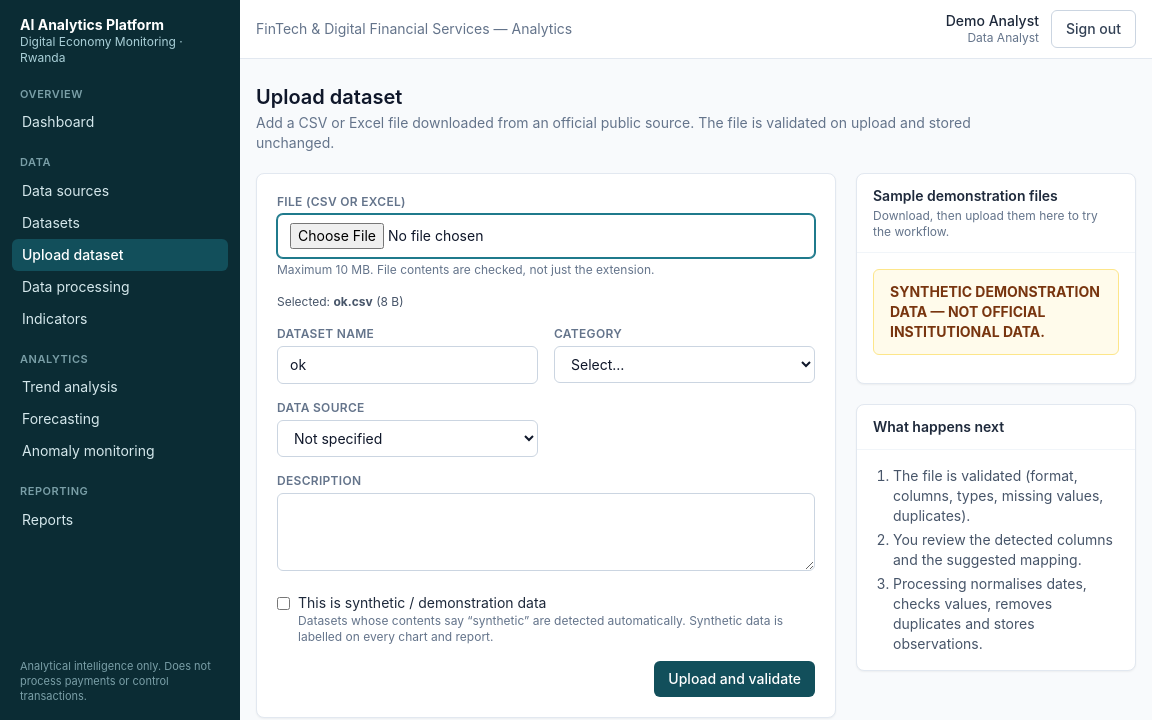
Test: dataset upload form › requires a category before submitting a valid CSV
Earlier steps of the test are not shown.
Step 1. Click the button "Upload and validate" → (735, 679), box [654,661,815,697]
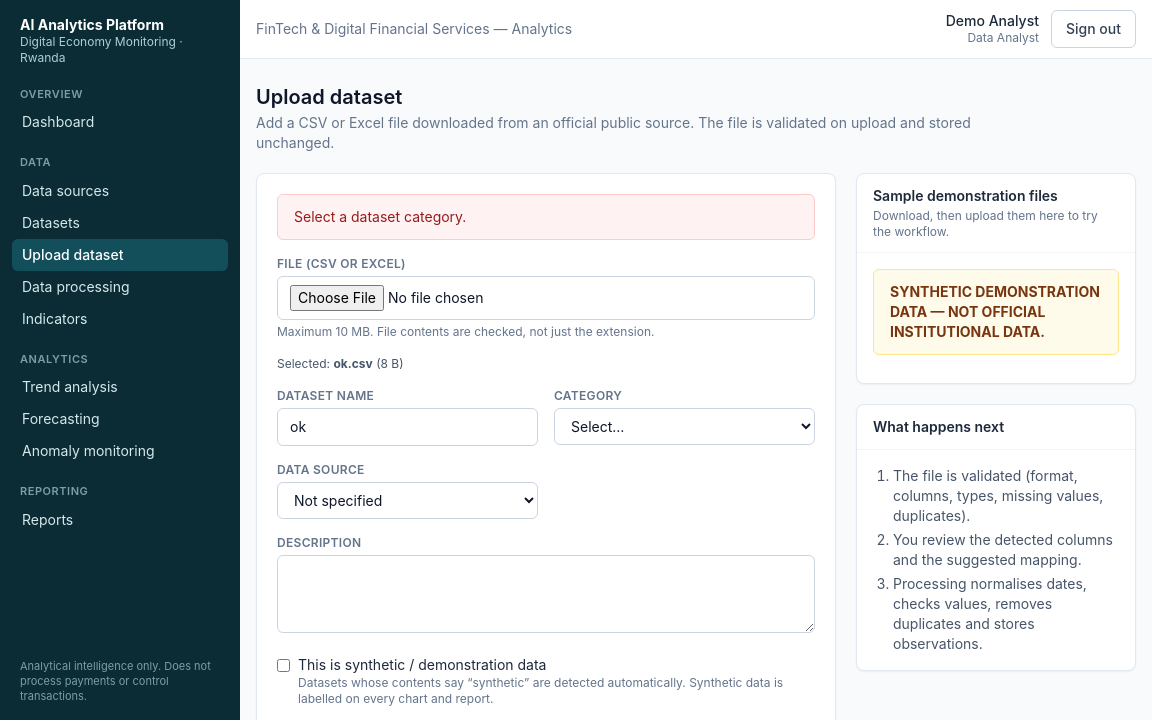
Result: the text "Select a dataset category." is shown at [294,207,466,227]
